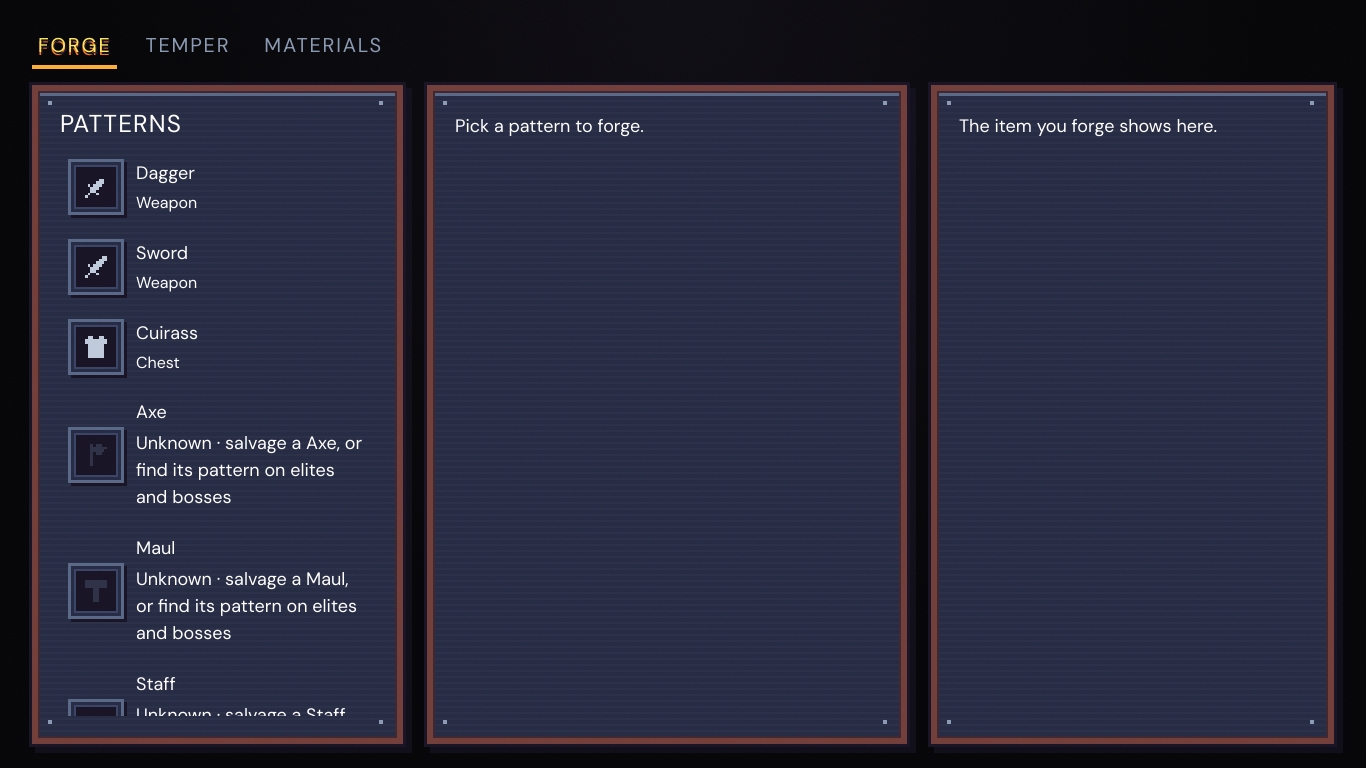
ForgeTab › the Materials pane's runes fuse three of a rune into one of the next tier, for scrap
The width and height of the screenshot is (1366, 768).
Click the tab with test id "bench-materials".
click(324, 46)  # box [258, 24, 389, 69]
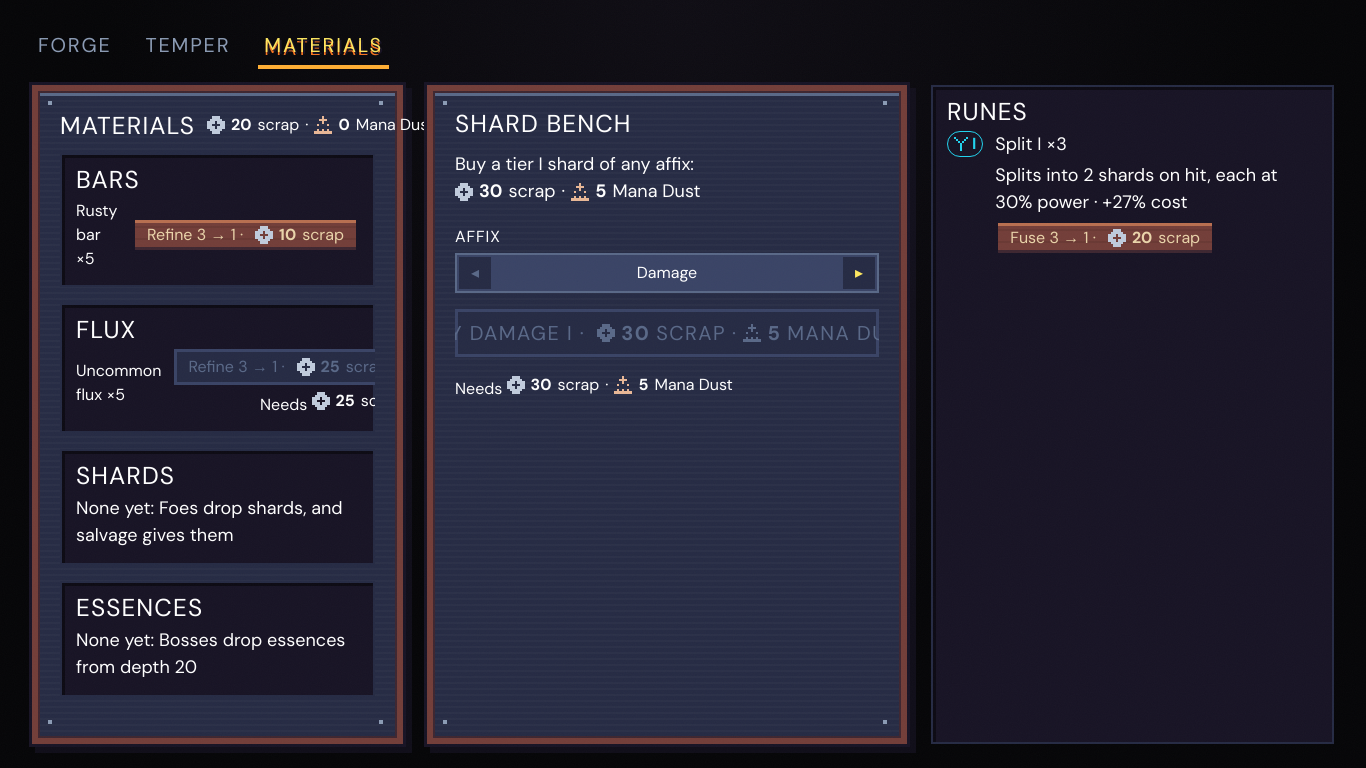
Click the button with test id "rune-fuse-split-1".
click(1105, 238)  # box [995, 220, 1215, 256]
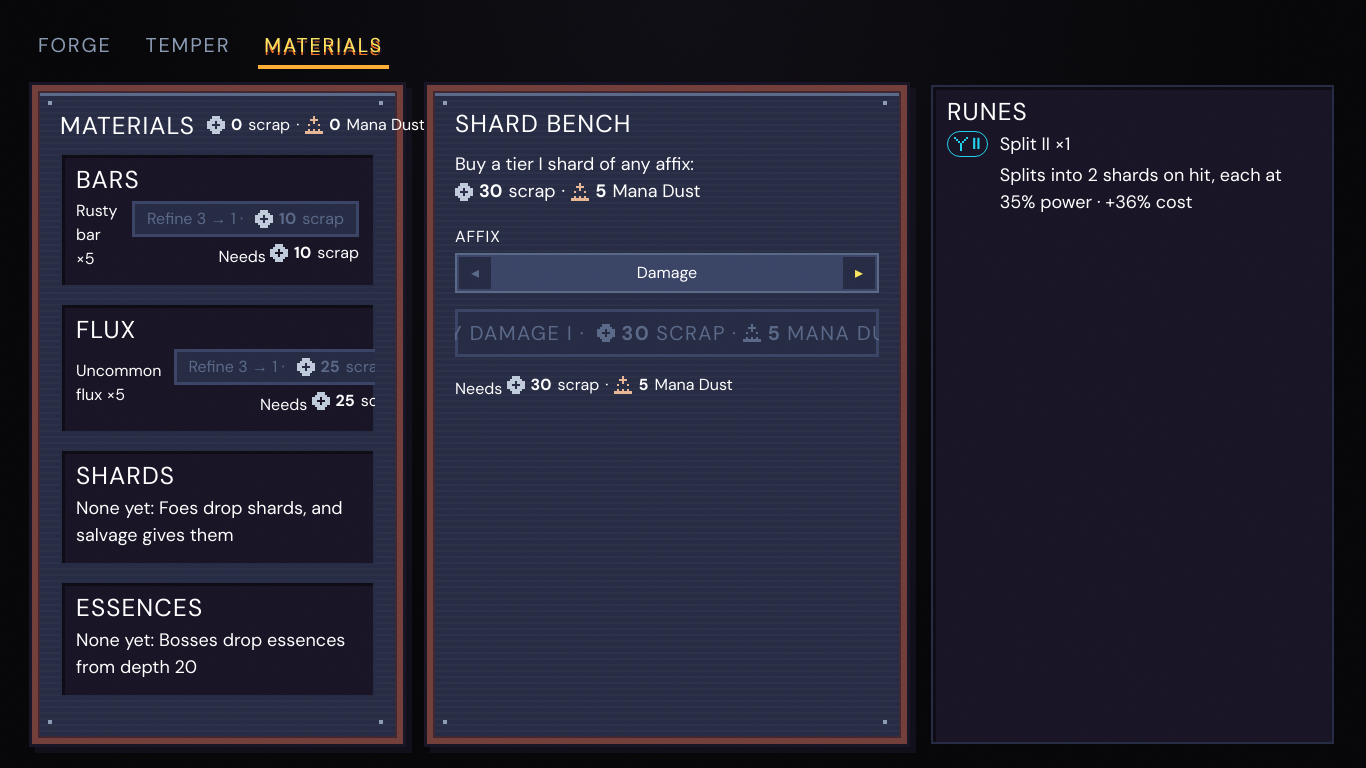
Expected: the element with test id "pouch-split-2" shows "Split II ×1", [947, 131, 1318, 216]
